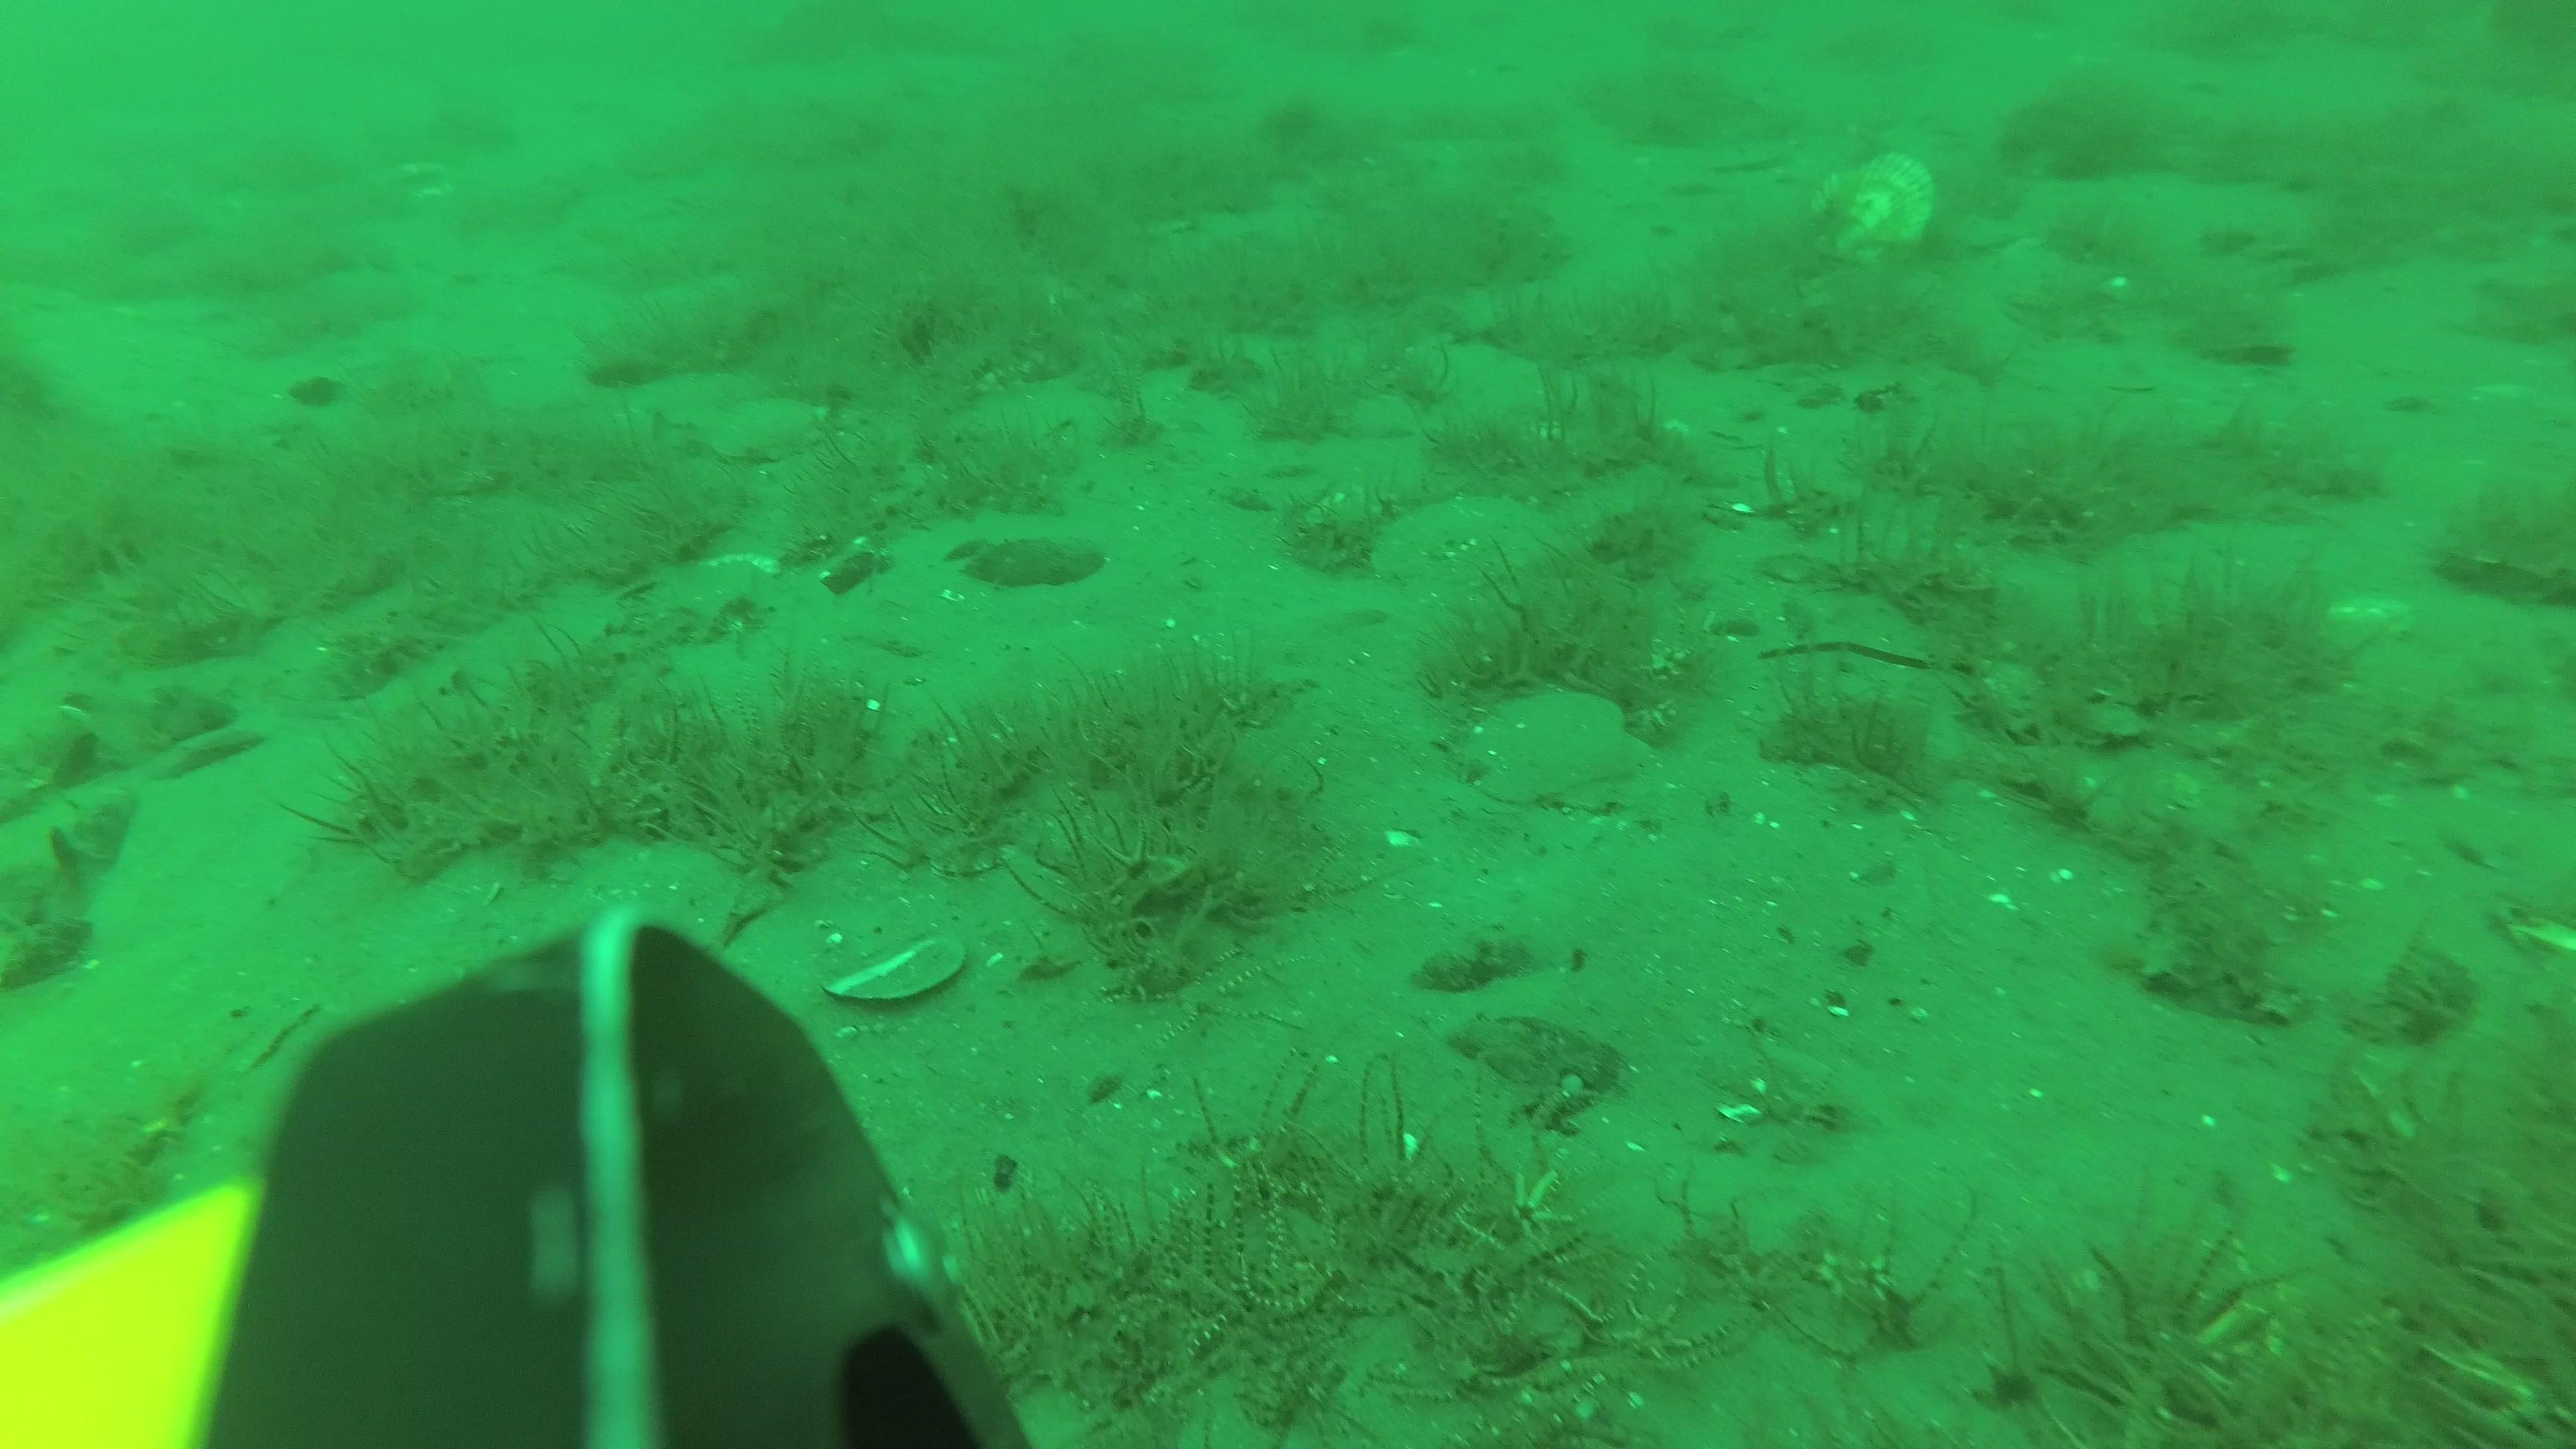scallop: (556, 842, 780, 993), (1467, 694, 1647, 809), (1378, 487, 1555, 589), (1812, 154, 1937, 262), (632, 370, 763, 428), (708, 402, 830, 462)
